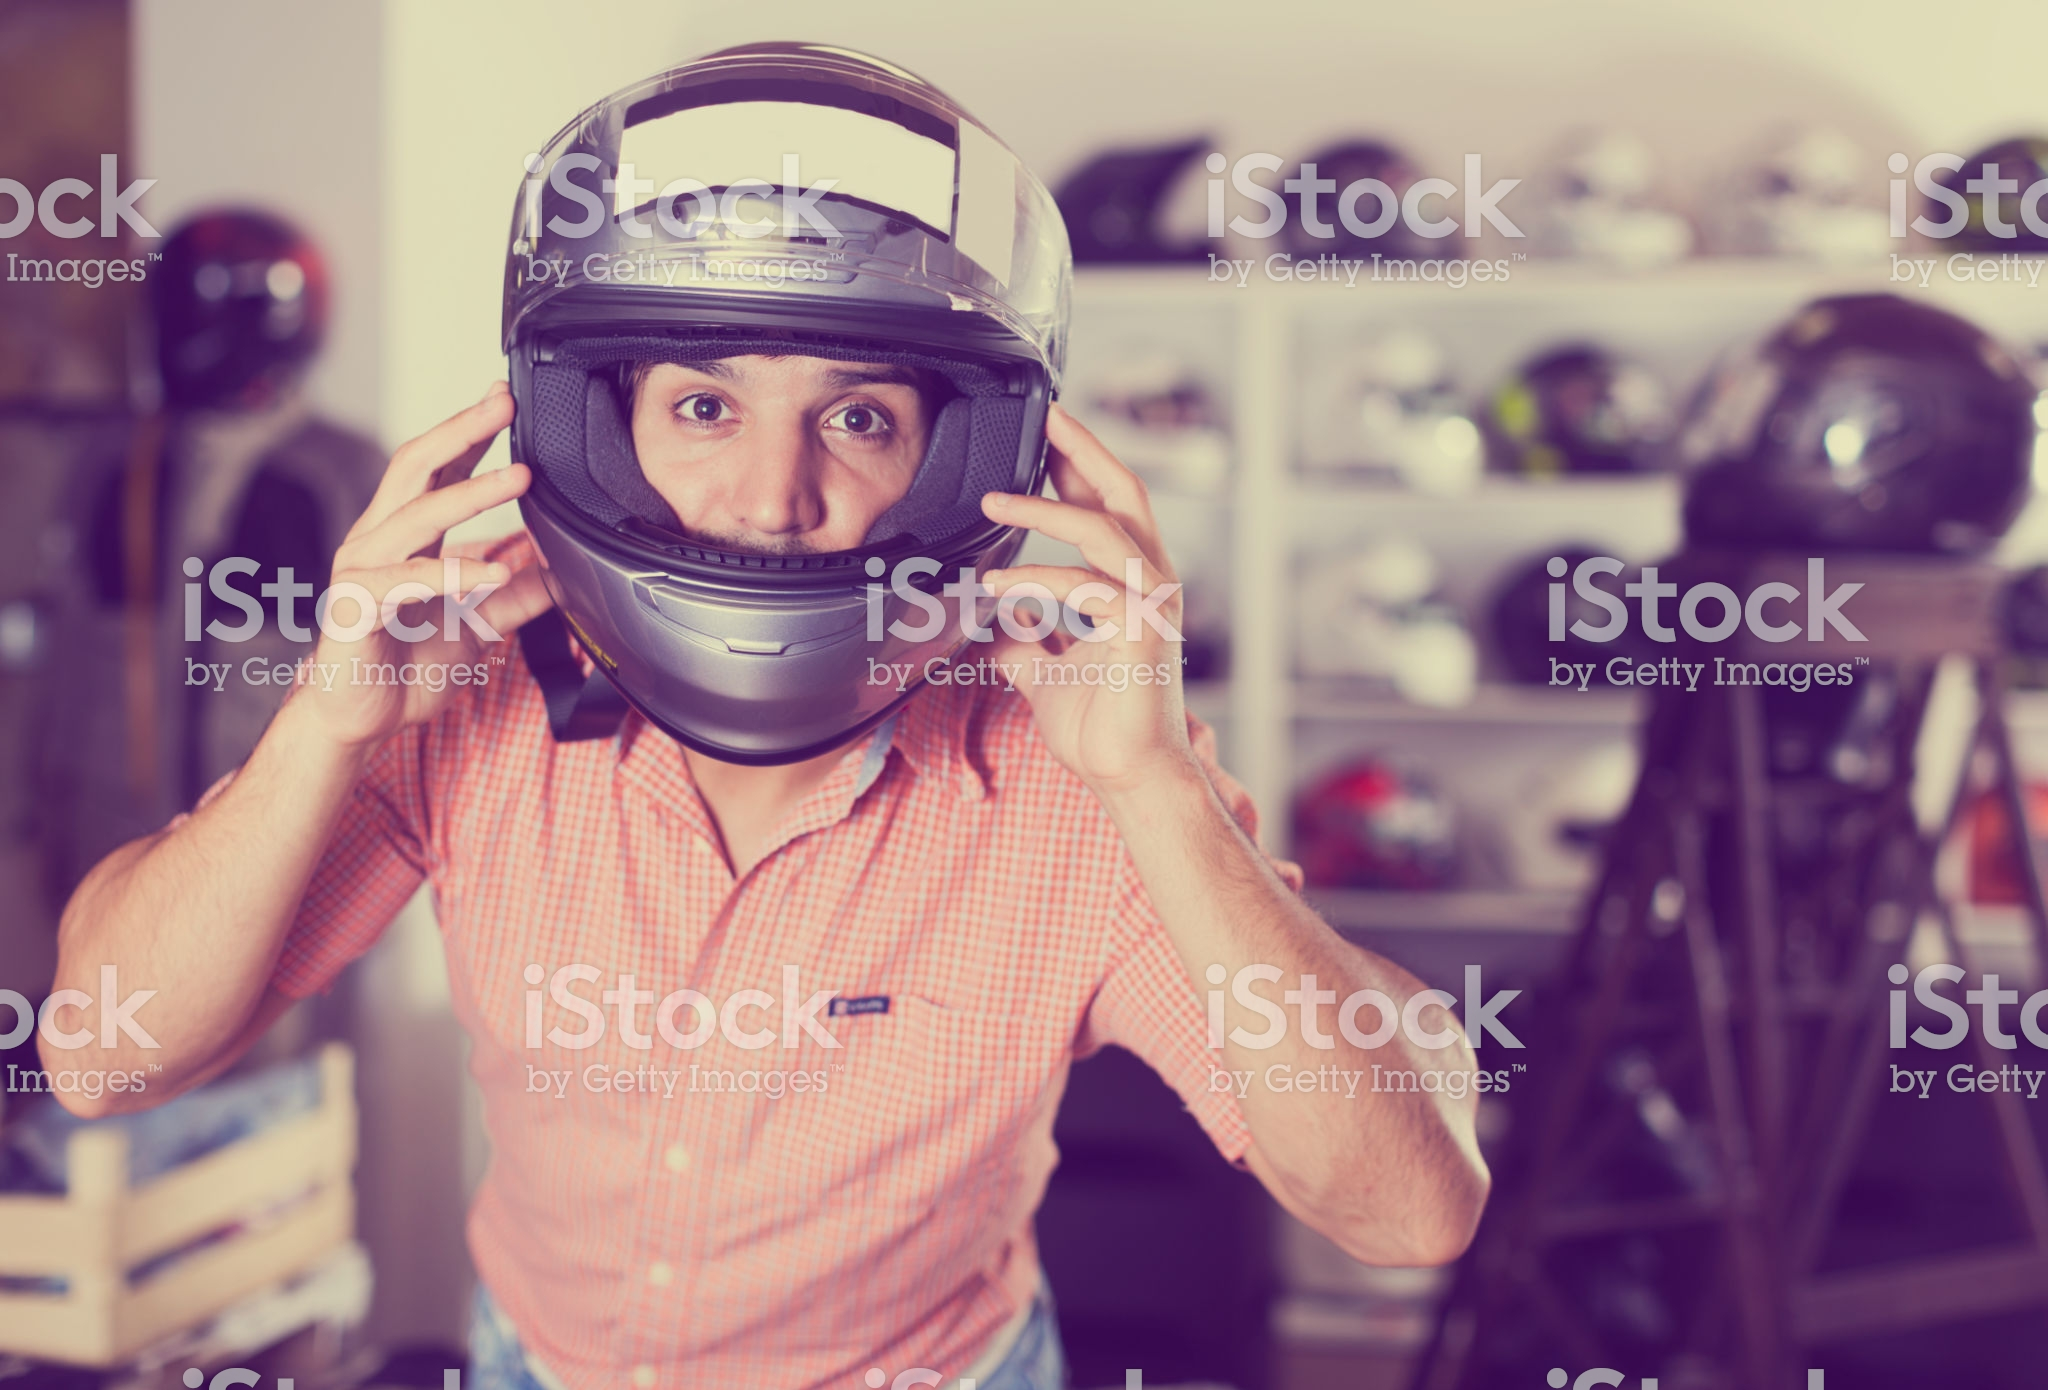helmet: (493, 64, 1004, 766)
